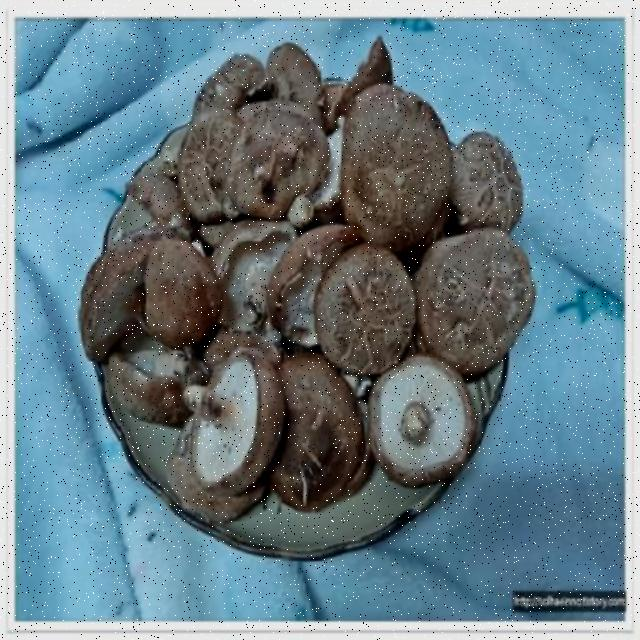Mushroom: (362, 342, 489, 496), (178, 345, 288, 504)
